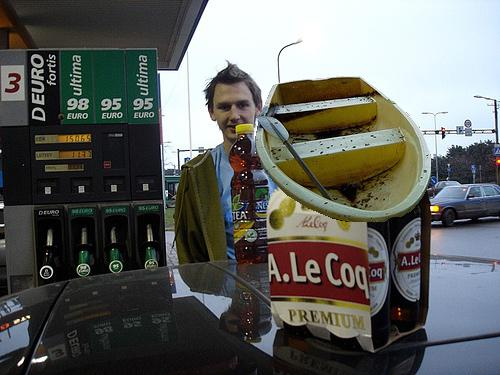tampered: (256, 77, 431, 222)
